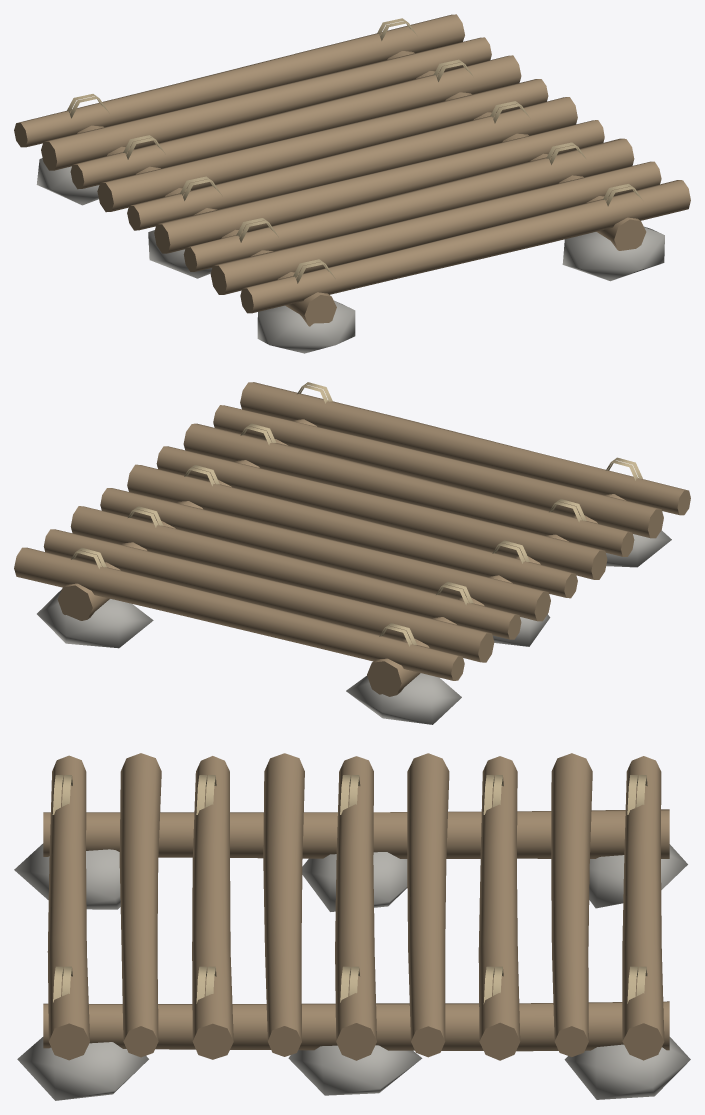
The model's file is BLD_Foundation.fbx.
The picture shows the model from 3 angles, top to bottom: view 1: azimuth 30°, elevation 25°; view 2: azimuth 150°, elevation 25°; view 3: azimuth 270°, elevation 25°; orthographic projection. The views are drawn at different scales.
Visible parts, largest first — view 1: Foundation_LOD0; view 2: Foundation_LOD0; view 3: Foundation_LOD0.
Boxes of the visible parts, left/top/right/bottom form: Foundation_LOD0: left=14, top=14, right=690, bottom=353; Foundation_LOD0: left=14, top=382, right=690, bottom=724; Foundation_LOD0: left=14, top=753, right=690, bottom=1100.
Size of what is drawn, in the model's own units: 2.96 by 0.5956 by 3.13.
